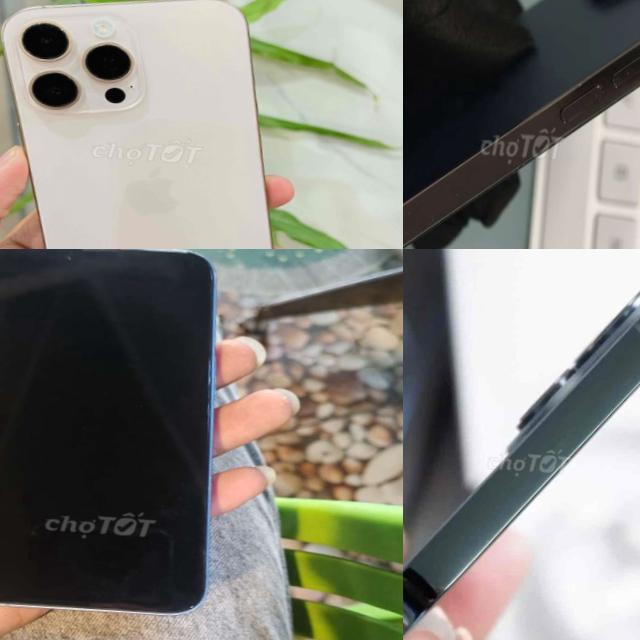gen_12_13: (403, 249, 640, 640)
gen_14: (0, 249, 246, 633), (403, 0, 640, 249)
gen_16: (2, 0, 271, 249)
scratch: (560, 66, 590, 96)
